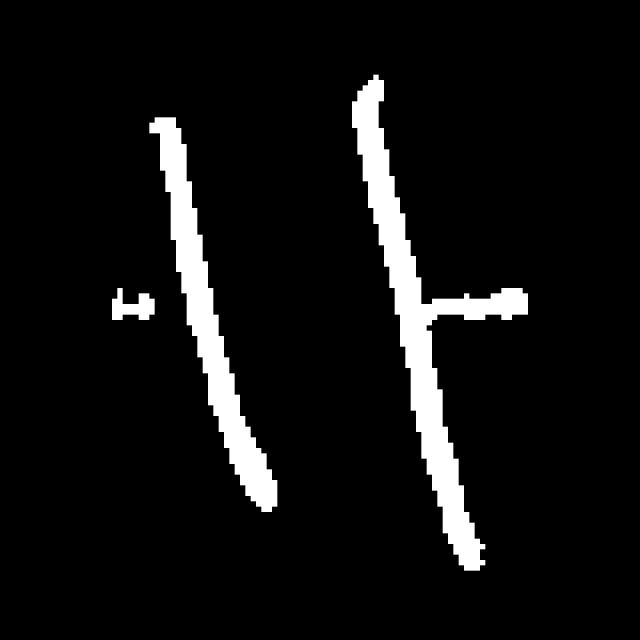capacitor: (146, 69, 488, 583)
